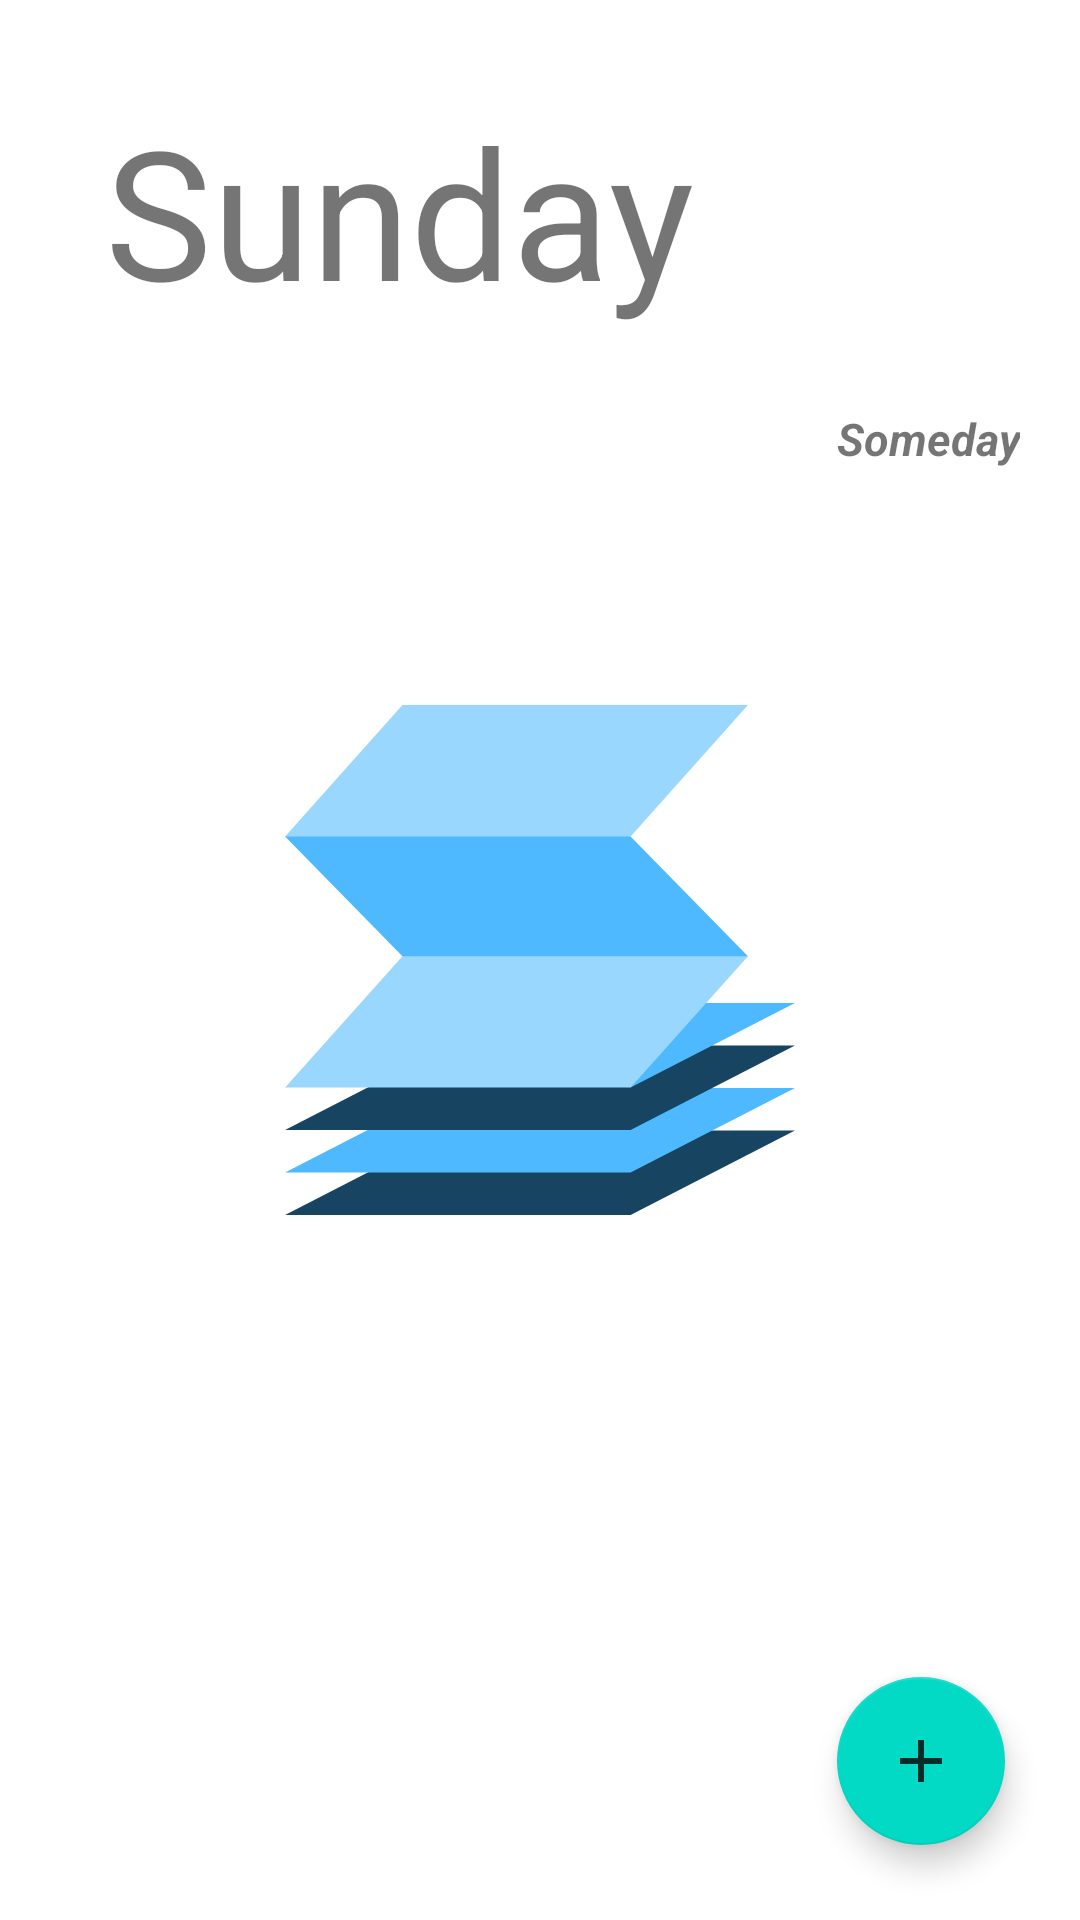

Where icons sit on this 1080px×1920px app screen, as detection(x1, y1, x2, y2):
plus: detection(837, 1677, 1005, 1845)
